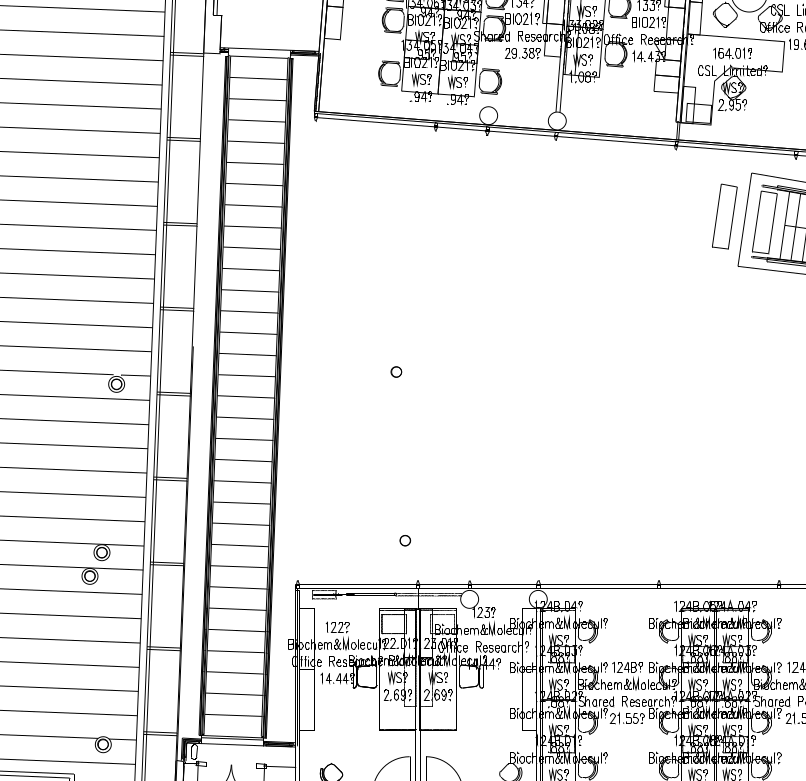door: (425, 753, 472, 781)
